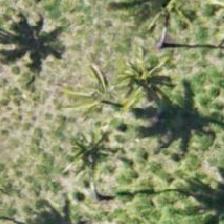coconut_tree: (51, 63, 141, 153), (33, 117, 123, 207), (105, 29, 195, 119), (118, 0, 208, 58)
